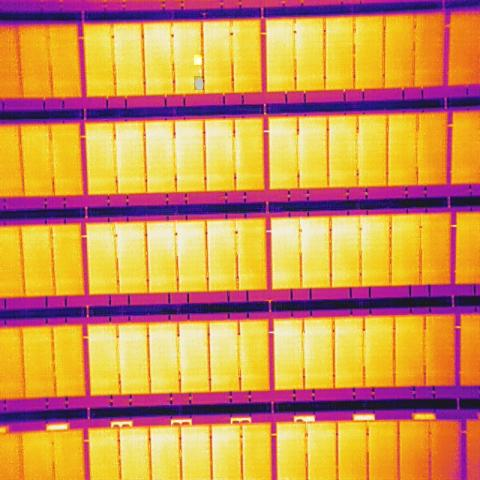fault: (194, 76, 204, 90), (194, 55, 202, 65)
